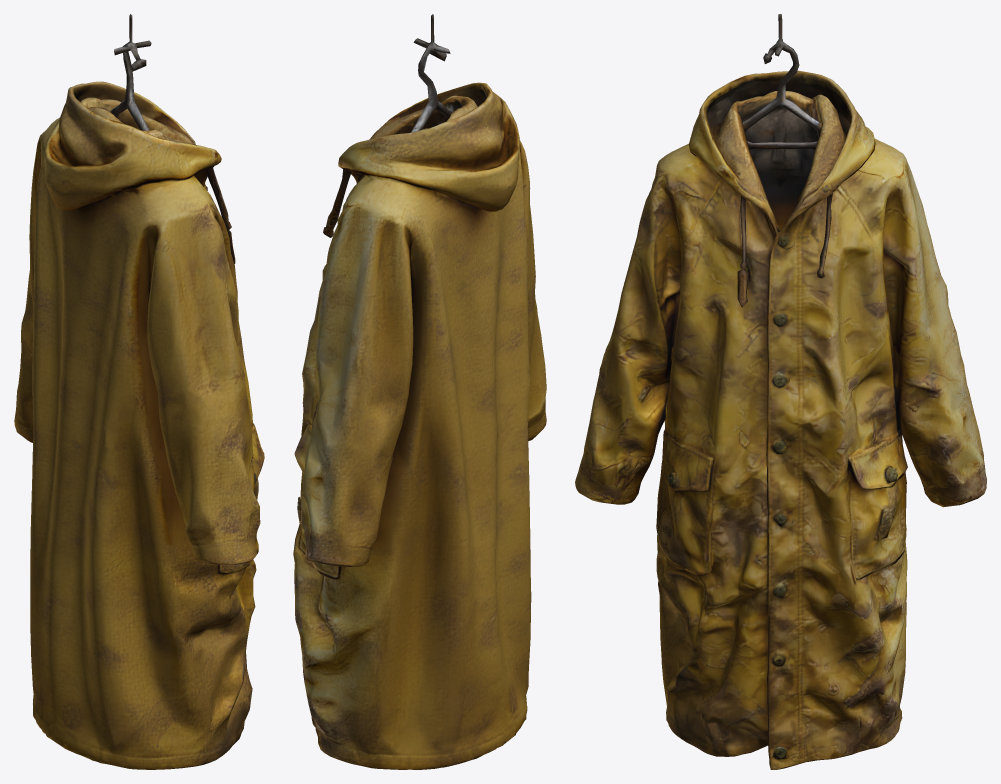
The picture shows the model from 3 angles, left to right: view 1: azimuth 30°, elevation 25°; view 2: azimuth 150°, elevation 25°; view 3: azimuth 270°, elevation 25°; orthographic projection.
Parts seen in each view (by area): view 1: tripo_node_bc3d7e21-a105-46a8-a127-d9cf63c884d7; view 2: tripo_node_bc3d7e21-a105-46a8-a127-d9cf63c884d7; view 3: tripo_node_bc3d7e21-a105-46a8-a127-d9cf63c884d7.
Boxes of the visible parts, left/top/right/bottom form: tripo_node_bc3d7e21-a105-46a8-a127-d9cf63c884d7: left=14, top=14, right=264, bottom=769; tripo_node_bc3d7e21-a105-46a8-a127-d9cf63c884d7: left=293, top=14, right=546, bottom=769; tripo_node_bc3d7e21-a105-46a8-a127-d9cf63c884d7: left=575, top=14, right=986, bottom=769.
Size of the model in its own units: 0.275 by 1 by 0.5279.
1 material, 1 textured.
